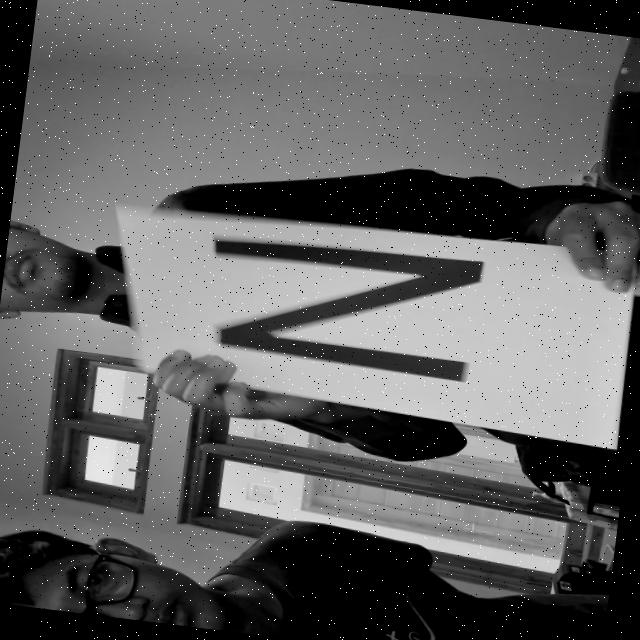n: (192, 215, 520, 396)
